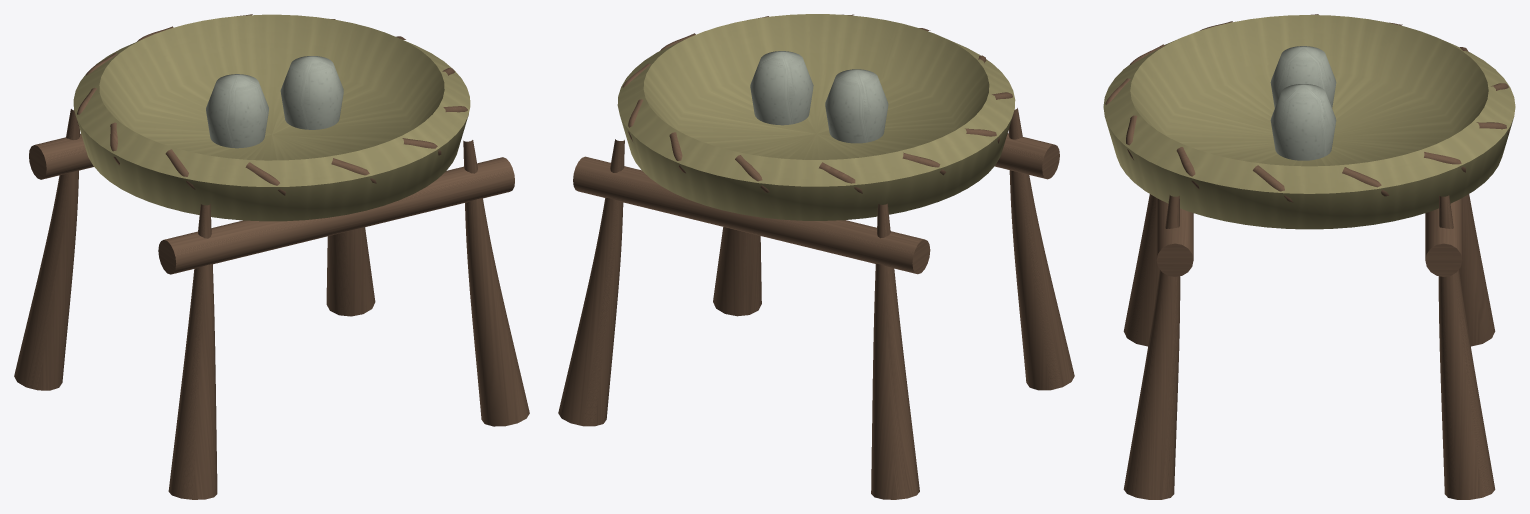
File: bellroot-fen-floodward-marches-reed-strider-nesting-pl-9449fcf4__32923.glb
3 renders of one model, left to right at view 1: azimuth 30°, elevation 25°; view 2: azimuth 150°, elevation 25°; view 3: azimuth 270°, elevation 25°, orthographic. The views are drawn at different scales.
Parts seen in each view (by area): view 1: reed-strider-nesting-platform; view 2: reed-strider-nesting-platform; view 3: reed-strider-nesting-platform.
Boxes of the visible parts, bbox=[...] form: reed-strider-nesting-platform: bbox=[14, 14, 529, 499]; reed-strider-nesting-platform: bbox=[558, 14, 1074, 499]; reed-strider-nesting-platform: bbox=[1103, 14, 1515, 499].
Bounding box in the file's own units: 1.42 × 1.29 × 1.38.
3 materials, 3 textured.
